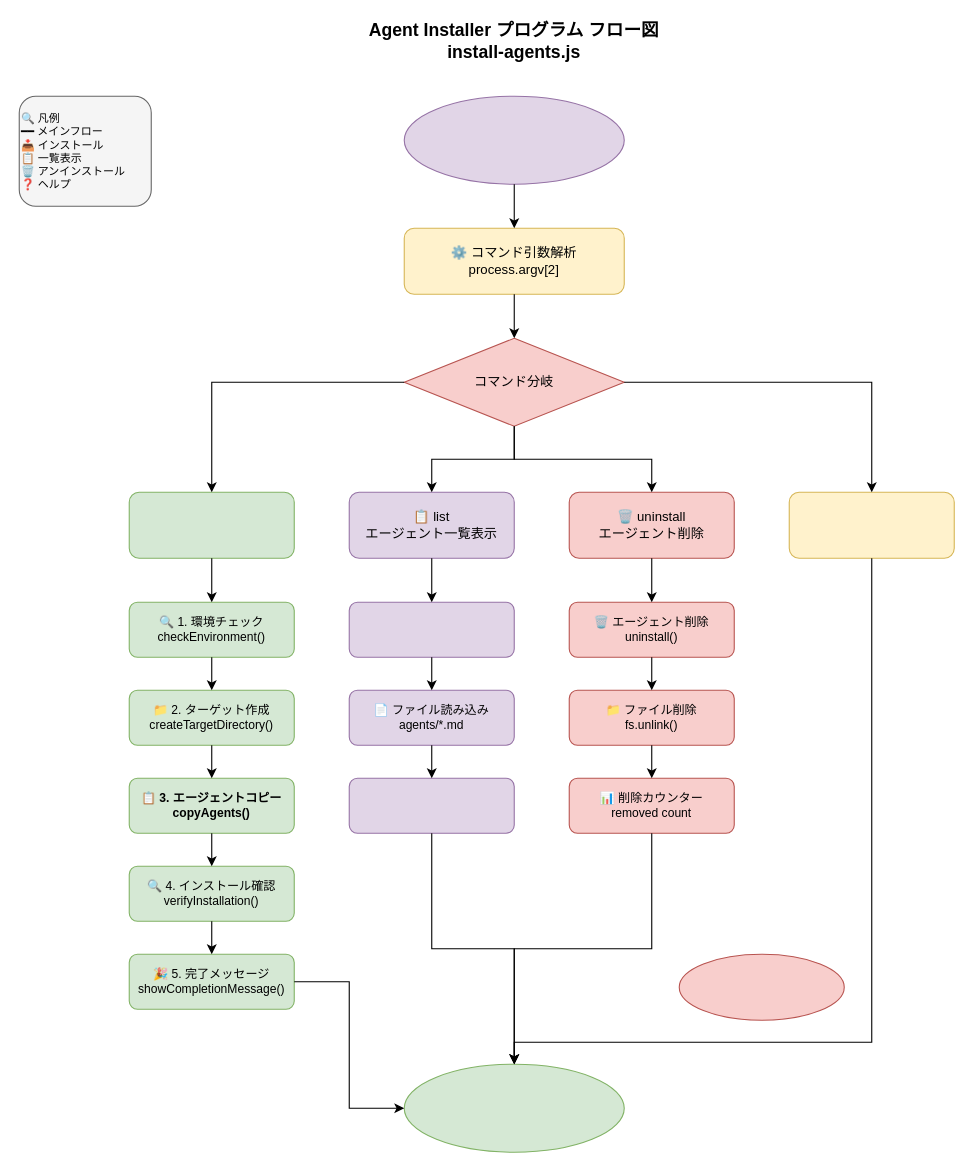
Some shapes in this 974 by 1172 pixel diagram are drawn without their labels. Each missing label, with the centre of its shape:
"✅ 成功終了 プロセス完了" goes at point 513,1107.
"❌ エラー終了 process.exit(1)" goes at point 761,986.
"❓ --help / -h ヘルプ表示" goes at point 871,524.
"📋 エージェント一覧 listAgents()" goes at point 431,629.
"📥 install / undefined (デフォルト)" goes at point 211,524.
"🖥️ 一覧表示 console.log()" goes at point 431,805.
"🚀 開始 Agent Installer" goes at point 513,139.
